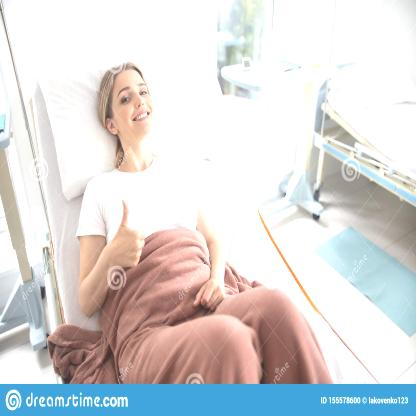Thumbs up: (103, 198, 155, 279)
